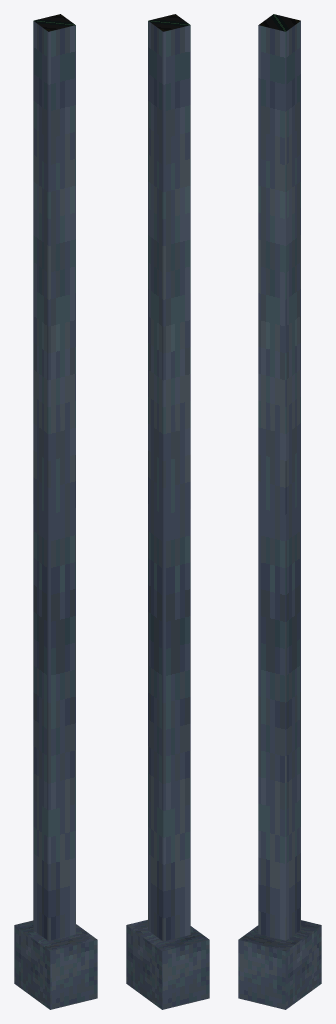
Rendered from HOOK04.glb.
3 views of the same model, side by side, from view 1: azimuth 30°, elevation 25°; view 2: azimuth 210°, elevation 25°; view 3: azimuth 330°, elevation 25° (orthographic).
Parts seen in each view (by area): view 1: HOOK04; view 2: HOOK04; view 3: HOOK04.
Part boxes in pixels (x1=…): HOOK04: x1=14, y1=14, x2=97, y2=1009; HOOK04: x1=126, y1=14, x2=209, y2=1009; HOOK04: x1=238, y1=14, x2=321, y2=1009.
Size of the model in its own units: 211 by 4110 by 277.
2 materials, 2 textured.
